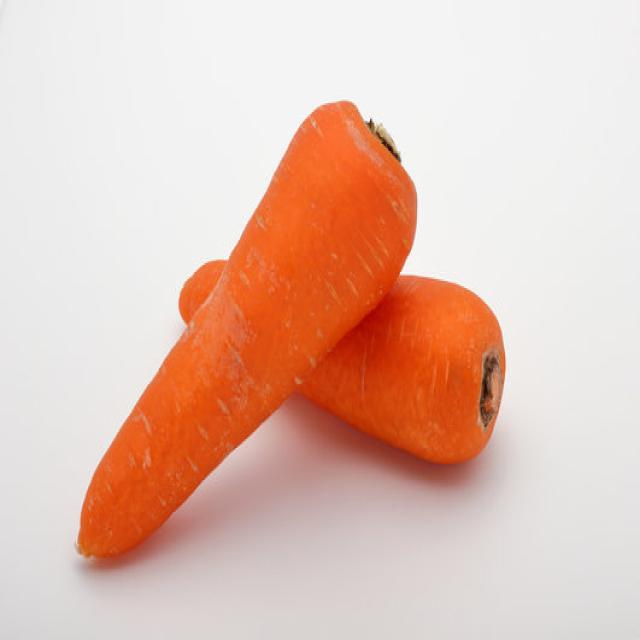Carrot: (75, 98, 418, 560), (178, 258, 505, 464)
